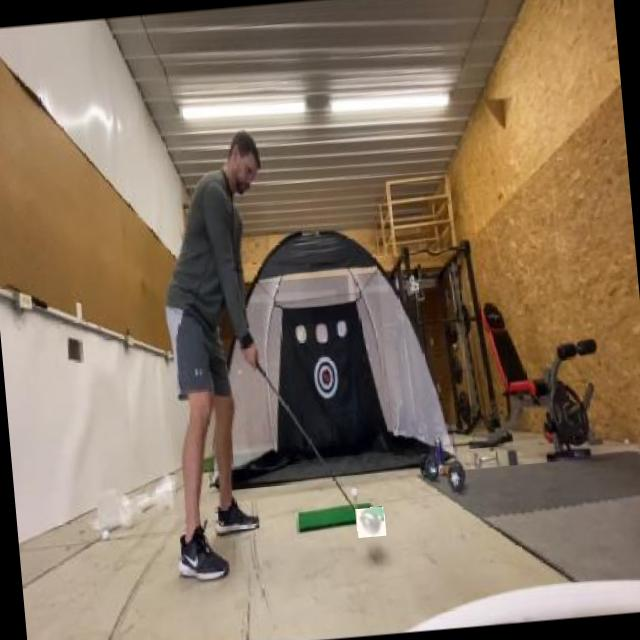club head: (356, 507, 386, 538)
